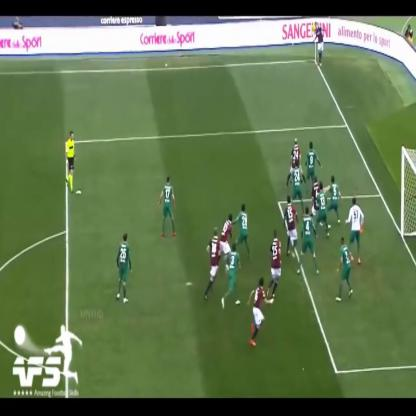corner kick: (298, 12, 337, 102)
